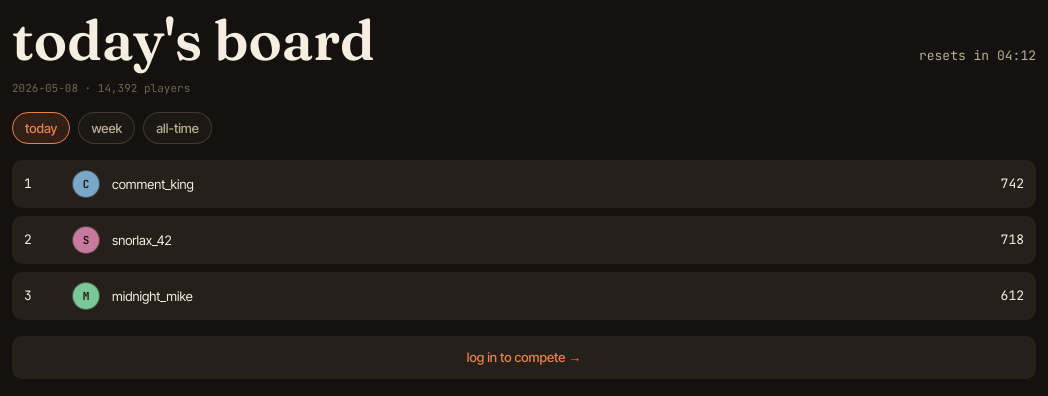
Scenario: LeaderboardClient — week + all-time tabs › switches the rendered board when the user clicks a tab
Expected: the text "comment_king" is shown, [112,176,194,192]
Click the tab with test id "leaderboard-tab-week": coordinates (107, 128) [78,112,135,144]
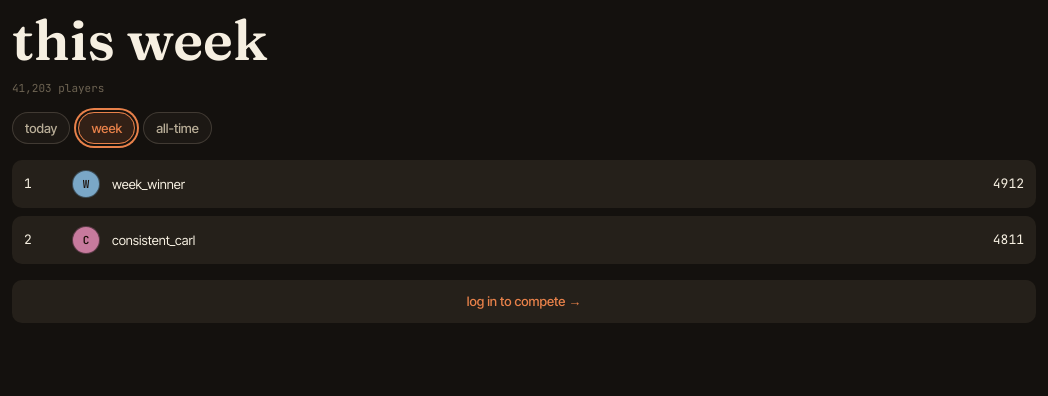
Expected: the text "week_winner" is shown, [112,176,185,192]
Click the tab with test id "leaderboard-tab-all-time": coordinates (178, 128) [143,112,212,144]
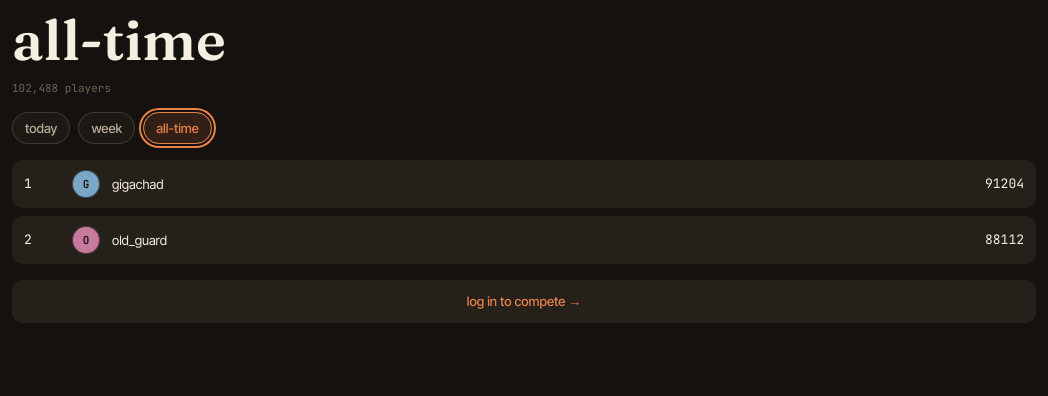
Expected: the text "gigachad" is shown, [112,176,164,192]
